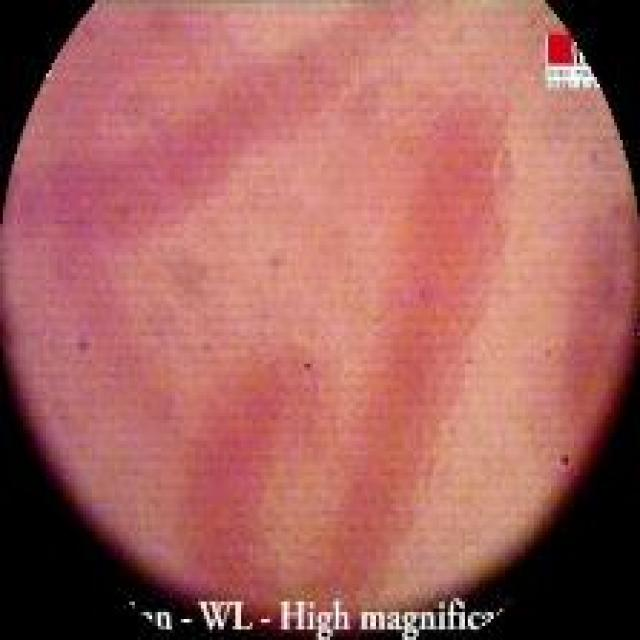blur: (26, 10, 623, 579)
color misalignment: (123, 584, 516, 637), (547, 34, 604, 92), (71, 323, 96, 365), (554, 440, 577, 480), (301, 344, 320, 388), (541, 331, 559, 374), (586, 137, 605, 173), (267, 242, 286, 277), (611, 197, 625, 227)
